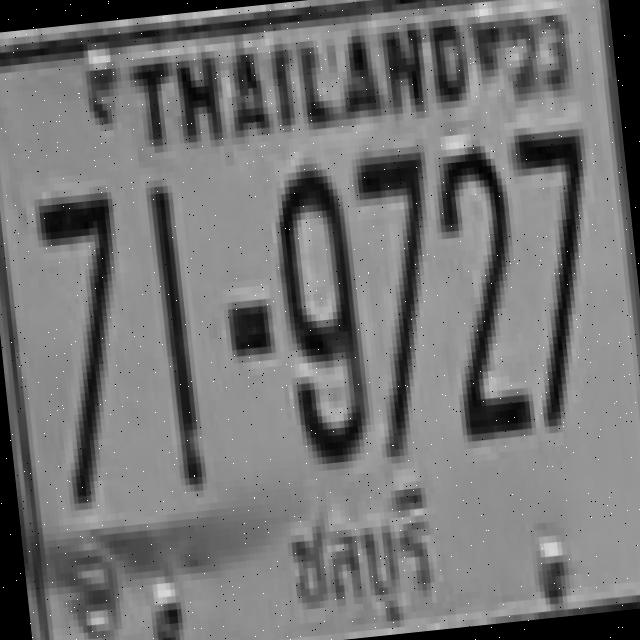0: (270, 160, 368, 460)
1: (144, 178, 202, 486)
2: (430, 140, 529, 439)
7: (33, 185, 138, 498), (350, 146, 450, 450), (508, 122, 608, 420), (350, 145, 445, 403), (33, 188, 129, 412), (508, 121, 598, 332), (350, 146, 440, 350)
9: (270, 160, 368, 460)
Chonburi: (266, 473, 461, 640)
